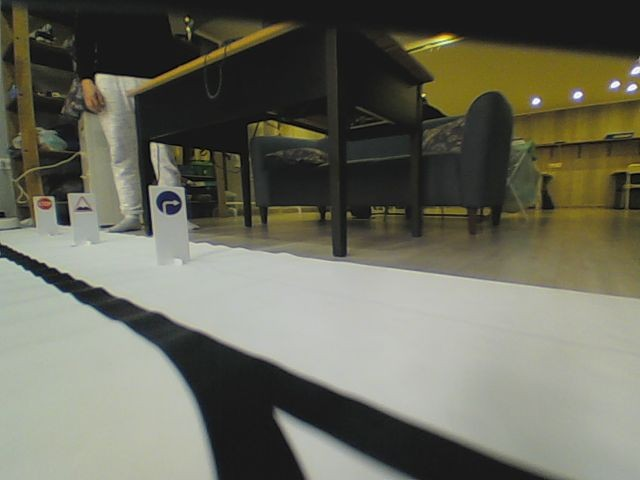Nerov: (74, 195, 93, 214)
Right: (154, 191, 185, 215)
Stop: (37, 198, 51, 210)
